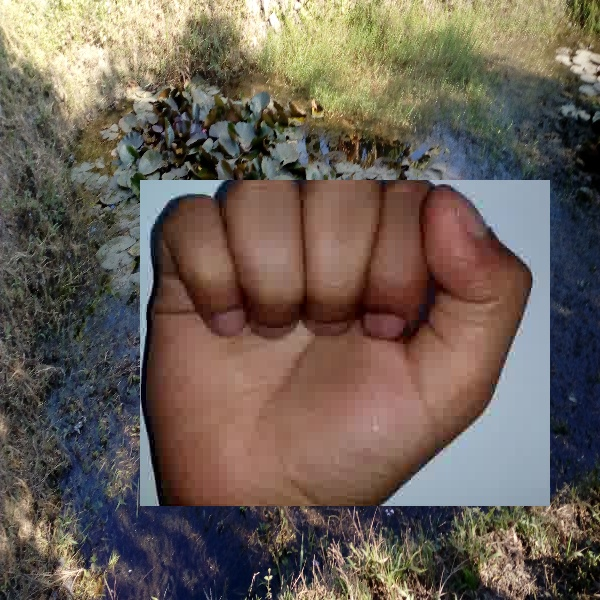A: (140, 180, 550, 506)
